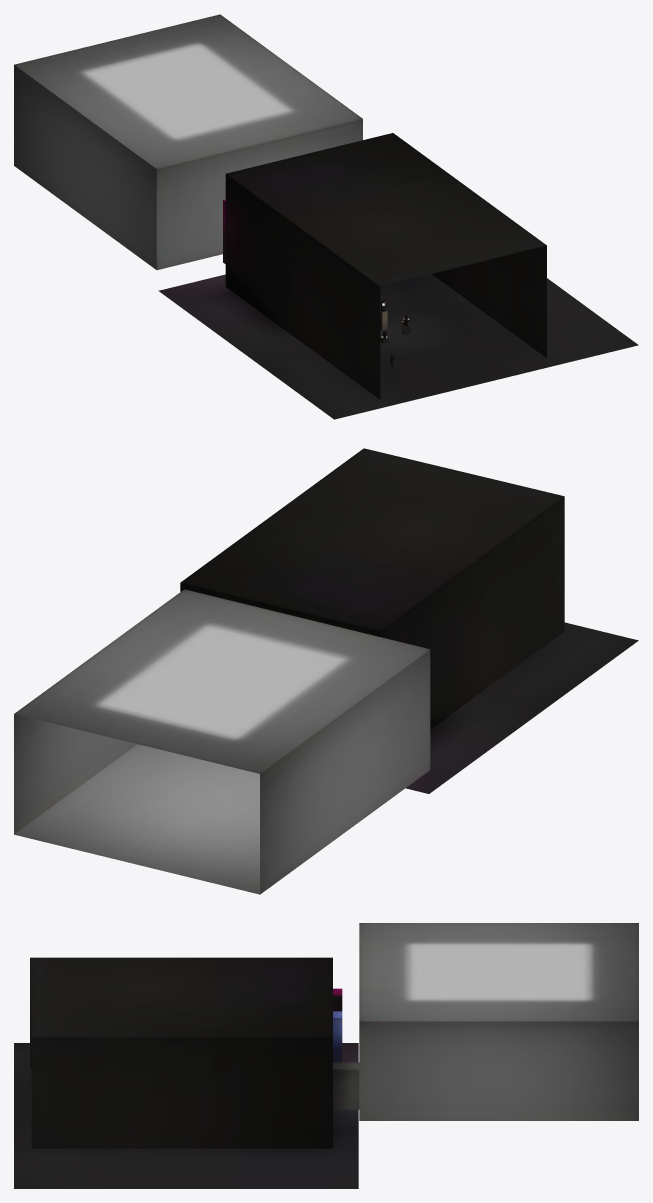
The model's file is stage-test-01.glb.
The picture shows the model from 3 angles, top to bottom: view 1: azimuth 30°, elevation 25°; view 2: azimuth 150°, elevation 25°; view 3: azimuth 270°, elevation 25°; orthographic projection. The views are drawn at different scales.
Visible parts, largest first — view 1: wall.001, flat-ground; view 2: wall.001, flat-ground; view 3: wall.001, flat-ground.
Part boxes in pixels (bbox=[...]): wall.001: bbox=[14, 14, 546, 399]; flat-ground: bbox=[158, 274, 638, 419]; wall.001: bbox=[14, 448, 564, 894]; flat-ground: bbox=[406, 622, 638, 793]; wall.001: bbox=[30, 923, 638, 1148]; flat-ground: bbox=[14, 1043, 358, 1188].
Bounding box in the file's own units: 175 × 67.77 × 315.
14 materials, 14 textured.
